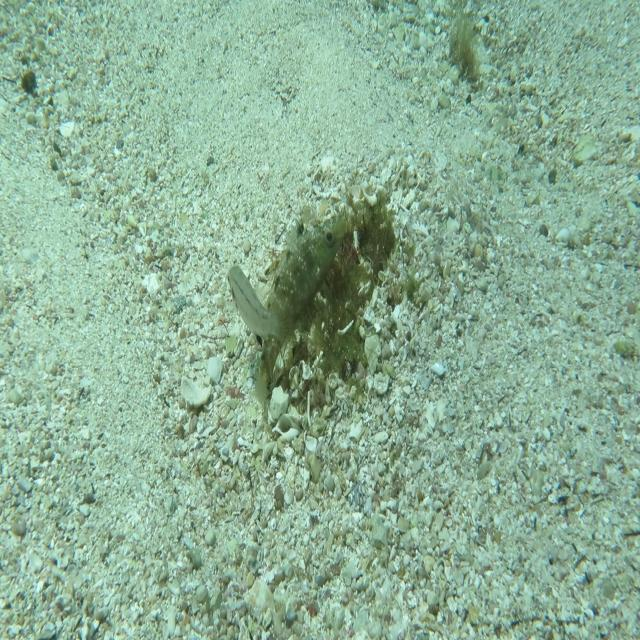FAN: (249, 210, 351, 416)
core_nest: (313, 197, 372, 255)
female: (227, 264, 297, 352)
nest: (263, 174, 407, 414)
